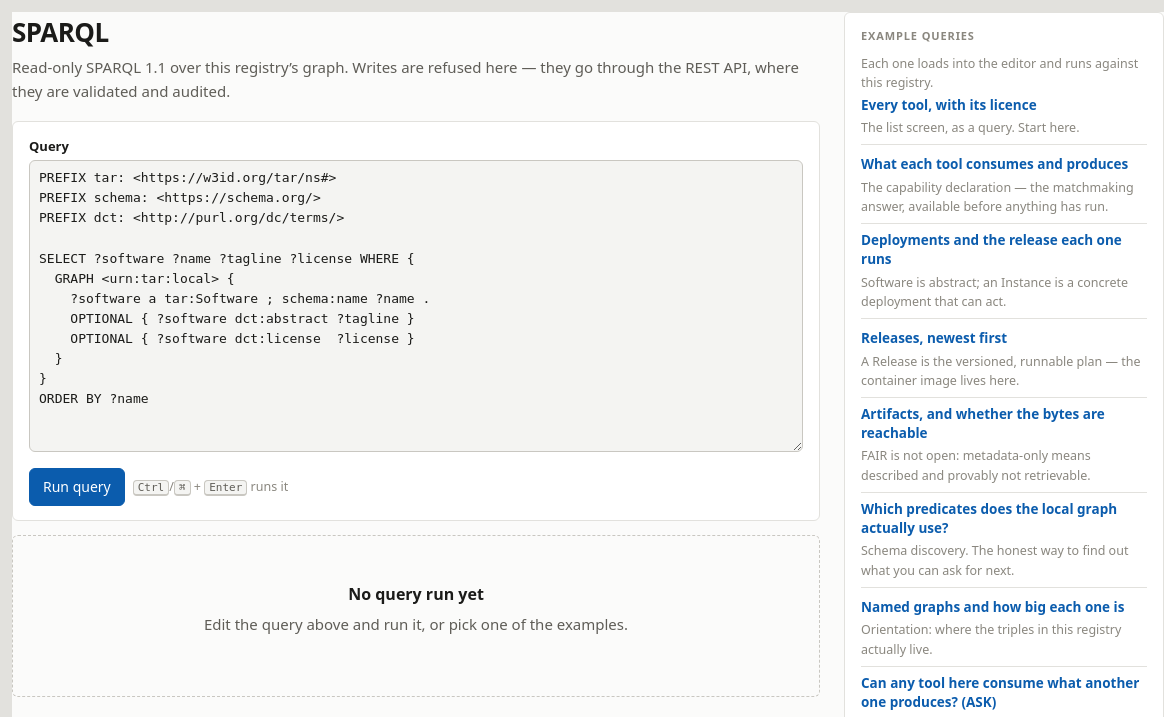
Sparql › renders an ASK as a yes/no, not as an empty table
The image size is (1164, 717).
Click the button "Run query".
click(77, 487)  # box [29,468,125,506]
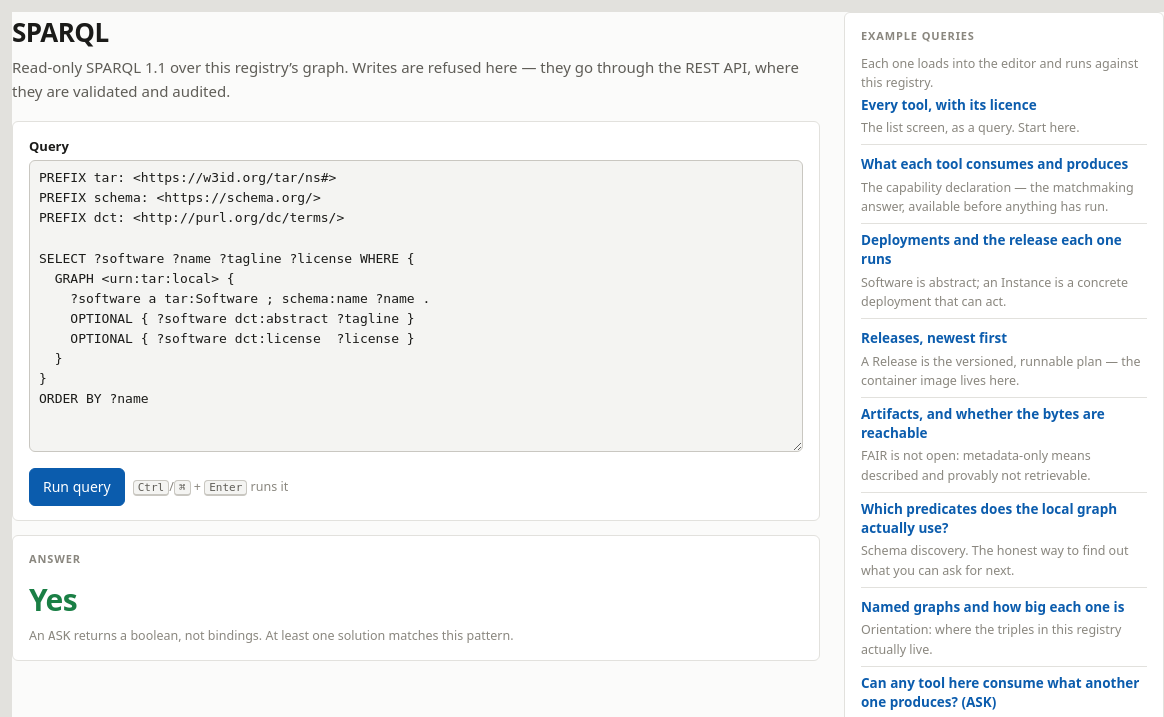
Check: the text "Yes" is shown, box [29,579,77,620]
Check: the text "returns a boolean, not bindings" is shown, box [70,627,262,644]
